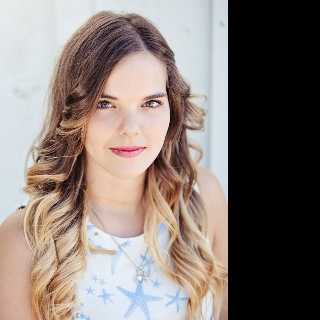without_mask: (83, 48, 171, 178)
